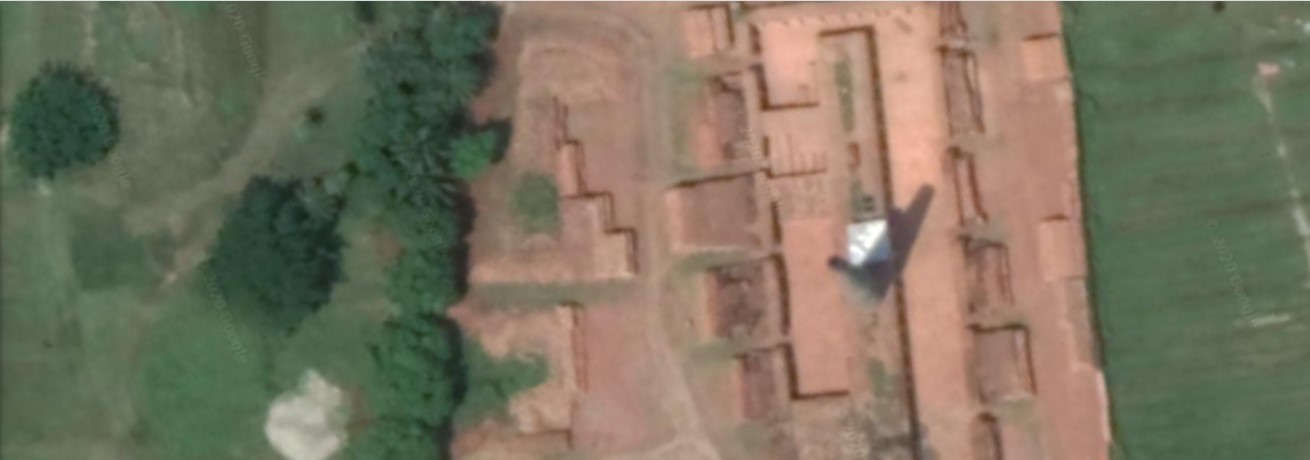kiln: (663, 11, 1016, 455)
